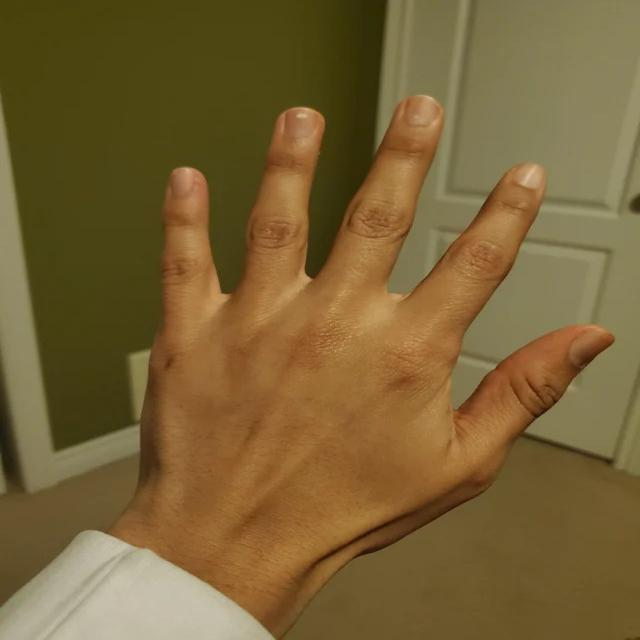hand: (137, 94, 616, 535)
